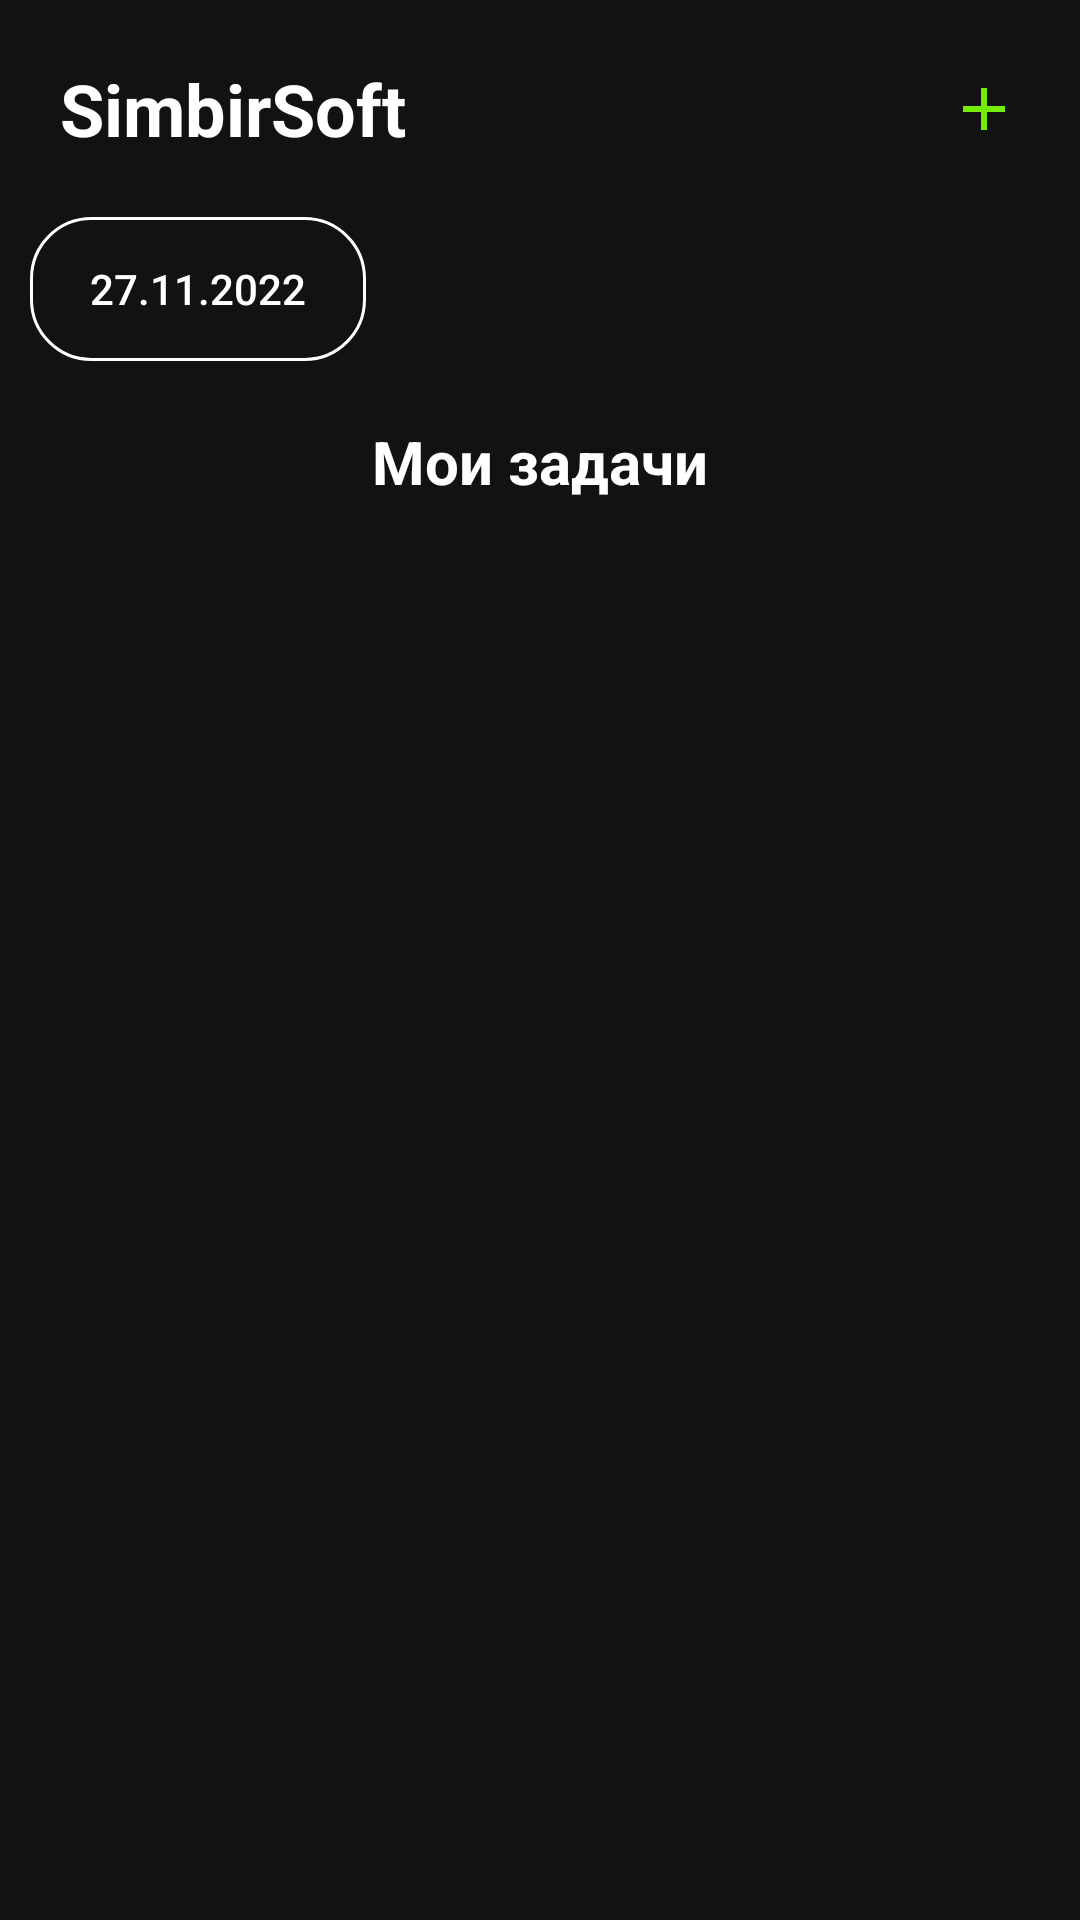

Icon click points for this 1080px x 1920px phone screenshot, format [x,y]:
add: [984,109]
